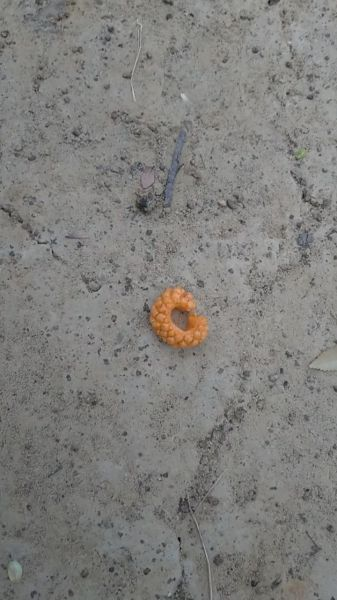eggs: (155, 286, 217, 356)
